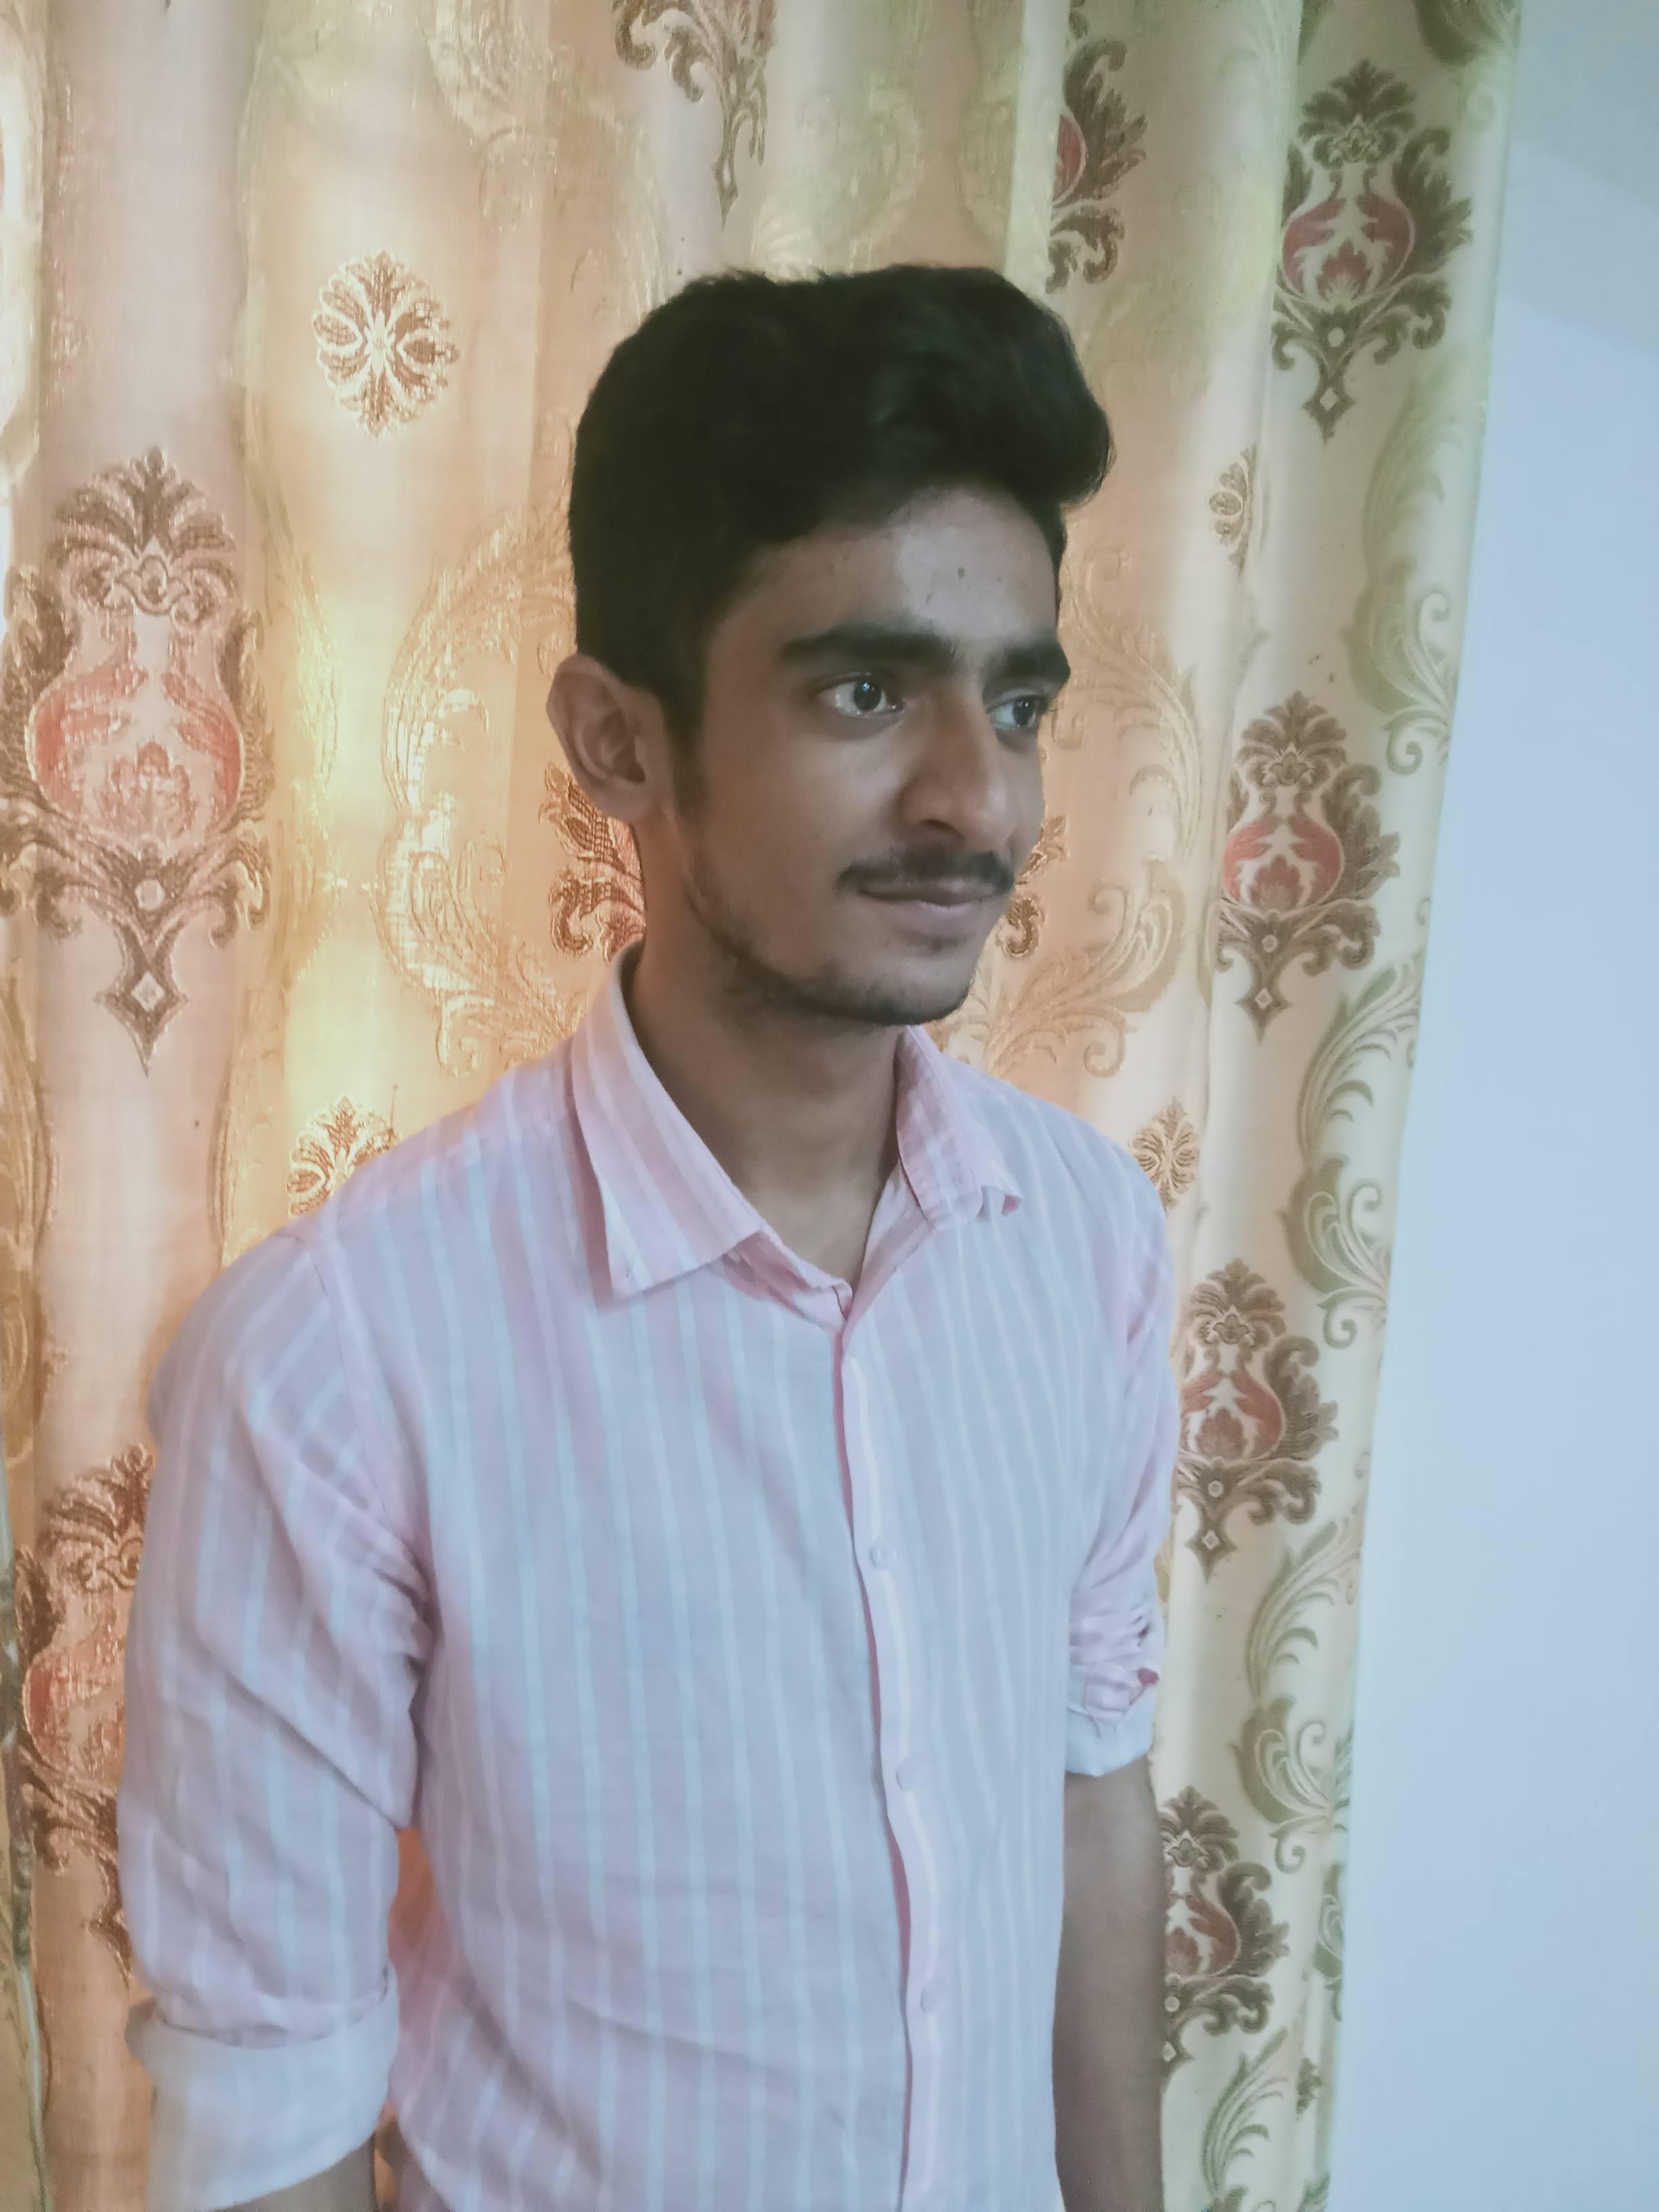NoMask: (721, 601, 1063, 1028)
